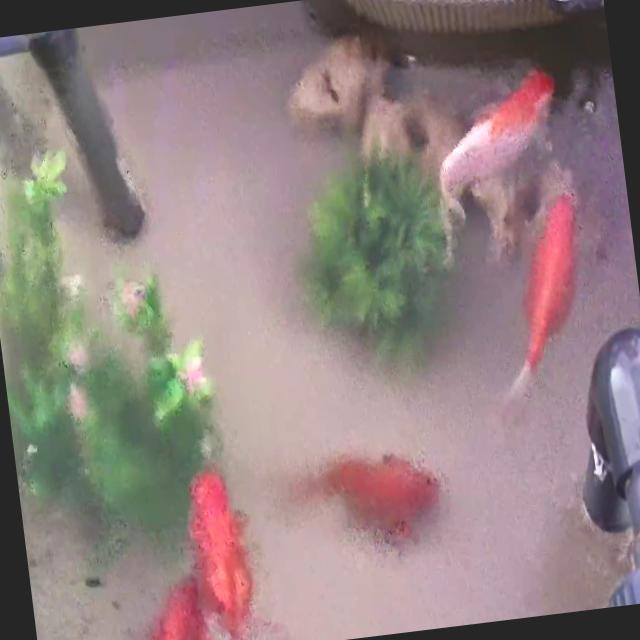fish: (480, 194, 602, 404), (428, 69, 569, 206), (180, 462, 259, 640), (322, 446, 437, 550), (103, 570, 216, 640)
